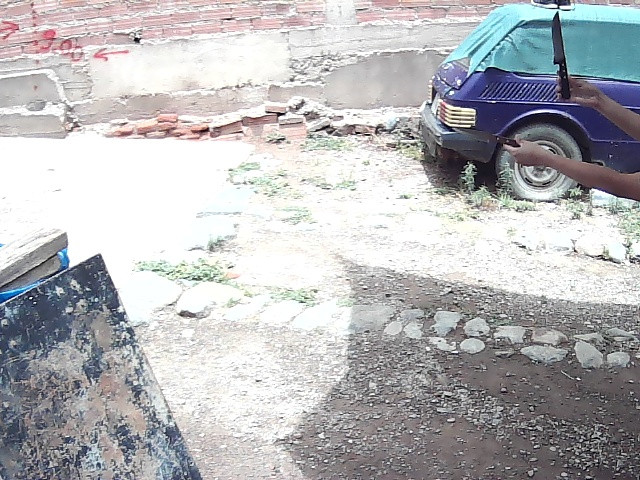cuchillo: (545, 7, 573, 76)
